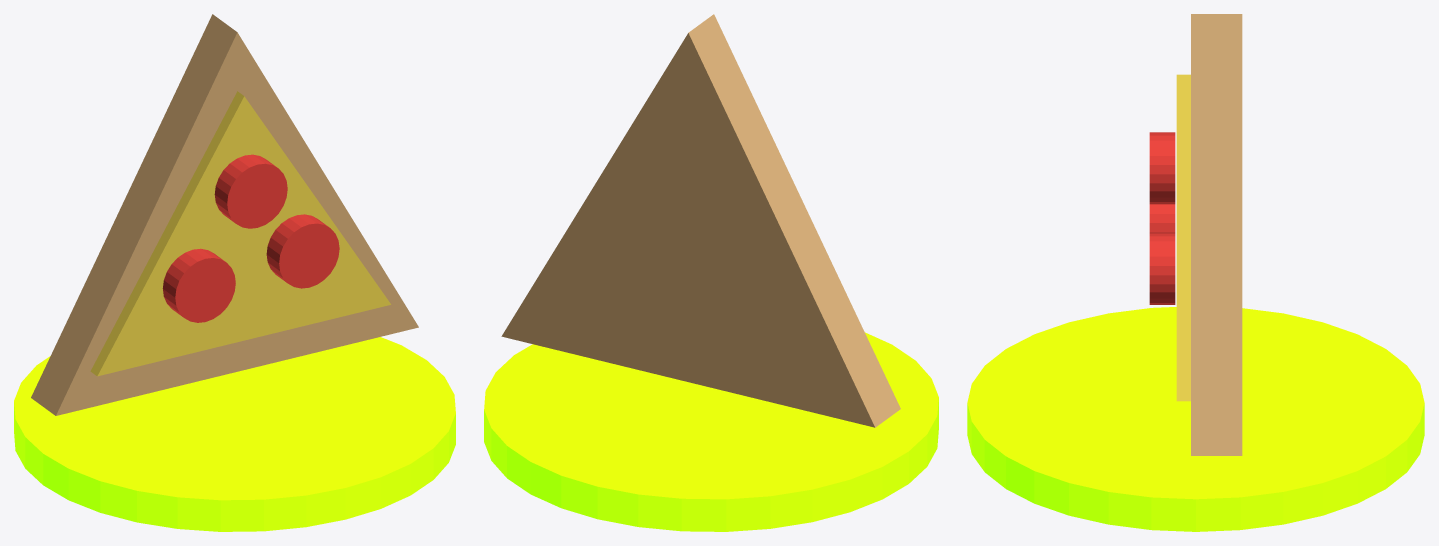
File: food_pizza_slice.glb
3 renders of one model, left to right at view 1: azimuth 30°, elevation 25°; view 2: azimuth 150°, elevation 25°; view 3: azimuth 270°, elevation 25°, orthographic. The views are drawn at different scales.
Parts seen in each view (by area): view 1: 01_02_Popular_Food_Pizza_Slice_ROOT_base, 01_02_Popular_Food_Pizza_Slice_part_01, 01_02_Popular_Food_Pizza_Slice_part_02, 01_02_Popular_Food_Pizza_Slice_part_04, 01_02_Popular_Food_Pizza_Slice_part_03, 01_02_Popular_Food_Pizza_Slice_part_05; view 2: 01_02_Popular_Food_Pizza_Slice_part_01, 01_02_Popular_Food_Pizza_Slice_ROOT_base; view 3: 01_02_Popular_Food_Pizza_Slice_ROOT_base, 01_02_Popular_Food_Pizza_Slice_part_01, 01_02_Popular_Food_Pizza_Slice_part_02, 01_02_Popular_Food_Pizza_Slice_part_05, 01_02_Popular_Food_Pizza_Slice_part_04, 01_02_Popular_Food_Pizza_Slice_part_03.
Boxes of the visible parts, x1,y1,x2,y2 form: 01_02_Popular_Food_Pizza_Slice_ROOT_base: [14, 337, 455, 531]; 01_02_Popular_Food_Pizza_Slice_part_01: [31, 14, 418, 415]; 01_02_Popular_Food_Pizza_Slice_part_02: [90, 91, 390, 376]; 01_02_Popular_Food_Pizza_Slice_part_04: [266, 214, 339, 288]; 01_02_Popular_Food_Pizza_Slice_part_03: [162, 248, 235, 322]; 01_02_Popular_Food_Pizza_Slice_part_05: [214, 154, 287, 228]; 01_02_Popular_Food_Pizza_Slice_part_01: [501, 14, 900, 427]; 01_02_Popular_Food_Pizza_Slice_ROOT_base: [484, 332, 938, 531]; 01_02_Popular_Food_Pizza_Slice_ROOT_base: [967, 307, 1424, 531]; 01_02_Popular_Food_Pizza_Slice_part_01: [1191, 14, 1242, 455]; 01_02_Popular_Food_Pizza_Slice_part_02: [1176, 74, 1190, 401]; 01_02_Popular_Food_Pizza_Slice_part_05: [1149, 132, 1175, 204]; 01_02_Popular_Food_Pizza_Slice_part_04: [1149, 233, 1175, 304]; 01_02_Popular_Food_Pizza_Slice_part_03: [1149, 204, 1175, 233].
Size of the model in its own units: 0.76 by 0.7729 by 0.76.
